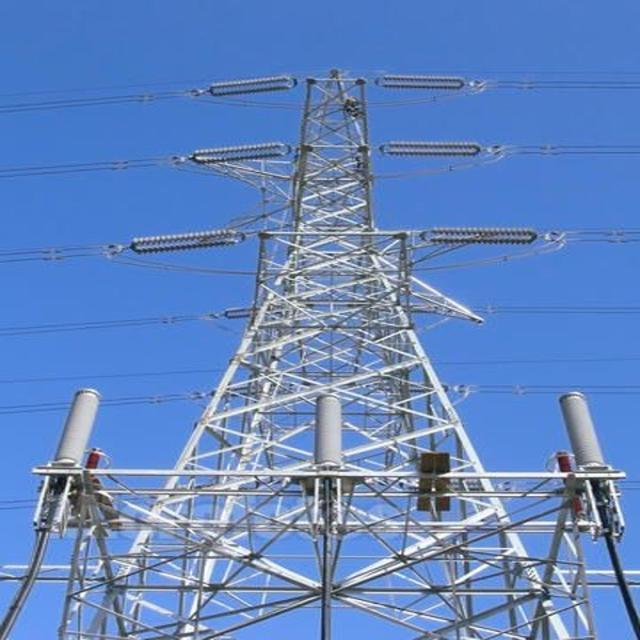non-critical vegetation: (127, 49, 546, 588)
